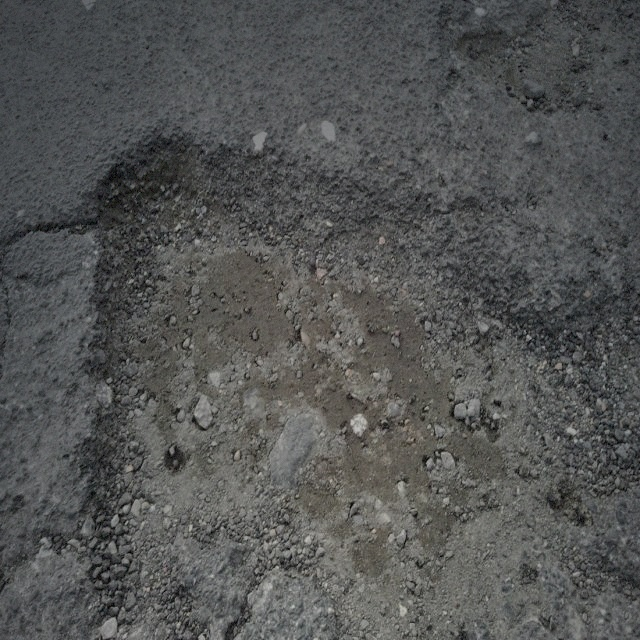pothole: (76, 117, 524, 588)
